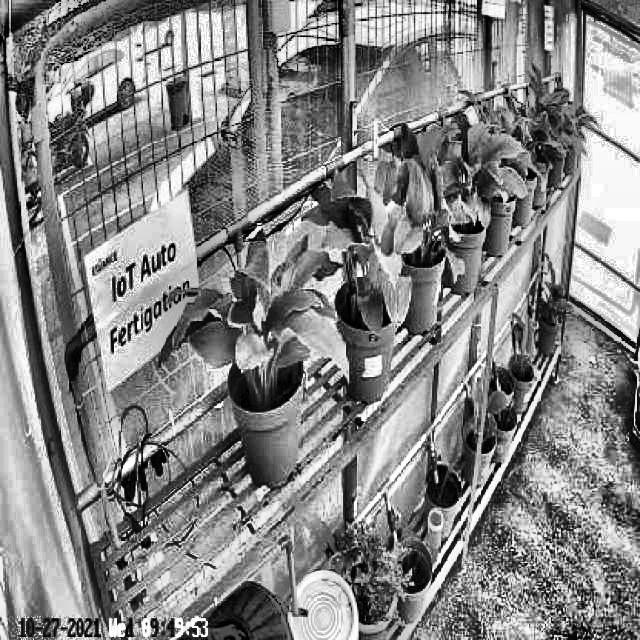plants: (156, 224, 350, 390), (306, 166, 416, 334), (366, 134, 466, 288), (416, 114, 536, 228)
